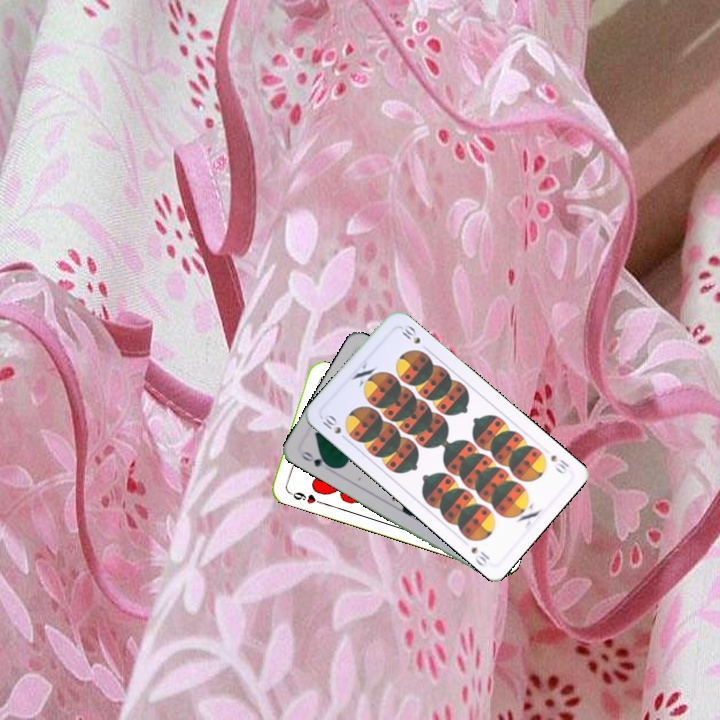GO: (297, 447, 335, 470)
H9: (285, 487, 324, 507)
S10: (318, 410, 351, 444), (546, 451, 572, 477)
